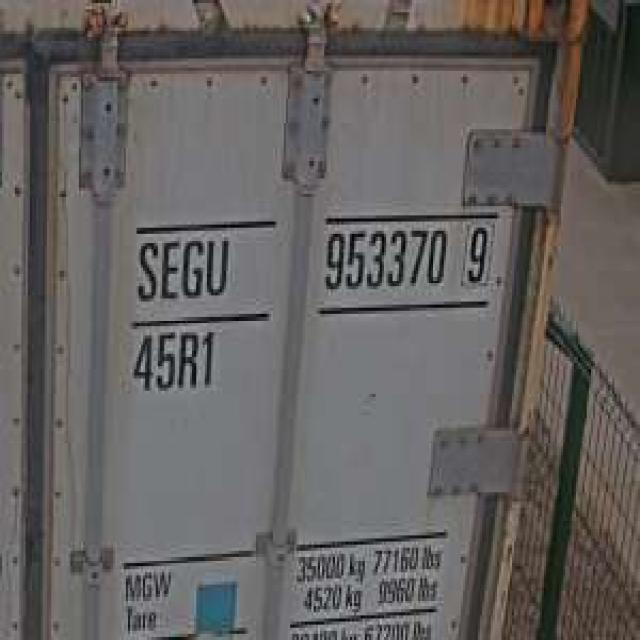dv: (459, 216, 495, 290)
owner: (132, 228, 235, 308)
serial: (320, 218, 450, 298)
size: (126, 323, 222, 400)
